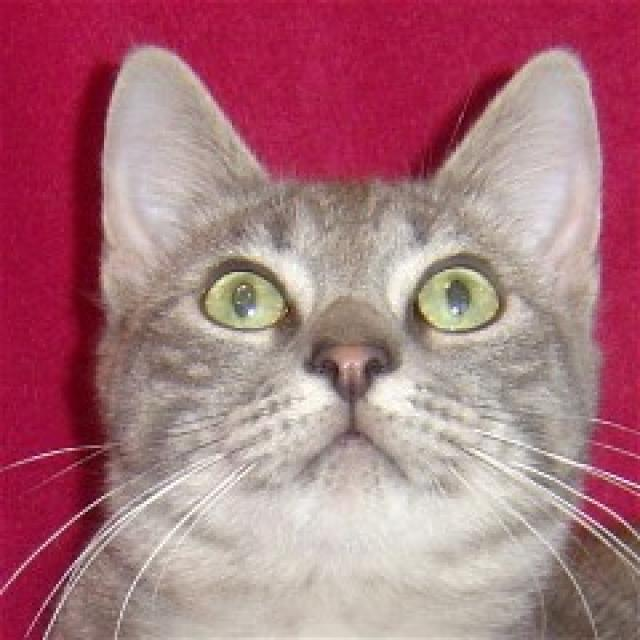Cats: (0, 39, 637, 637)
